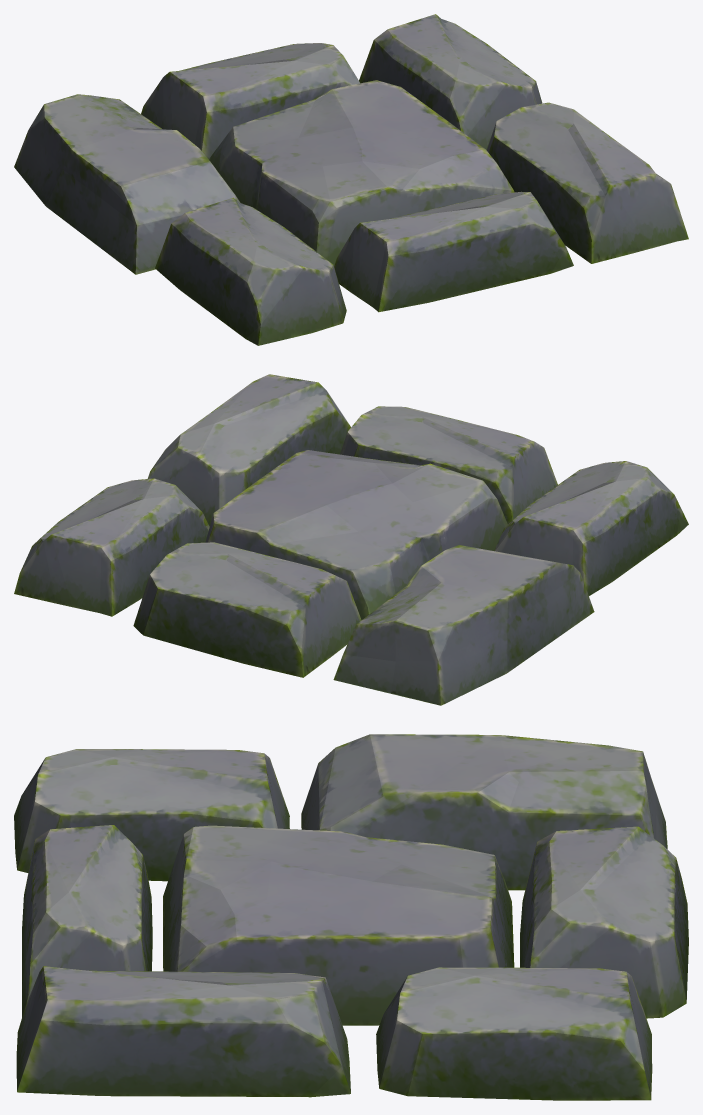
The model's file is RockPath_Square_Small_2.glb.
3 views of the same model, one above another, from view 1: azimuth 30°, elevation 25°; view 2: azimuth 150°, elevation 25°; view 3: azimuth 270°, elevation 25° (orthographic). The views are drawn at different scales.
Parts seen in each view (by area): view 1: RockPath_Square_Small_2; view 2: RockPath_Square_Small_2; view 3: RockPath_Square_Small_2.
Part boxes in pixels (x1,y1,x2,y2): RockPath_Square_Small_2: [14, 14, 688, 345]; RockPath_Square_Small_2: [14, 374, 688, 705]; RockPath_Square_Small_2: [14, 734, 688, 1100].
Size of the model in its own units: 0.9927 by 0.1493 by 0.9661.
1 material, 1 textured.
